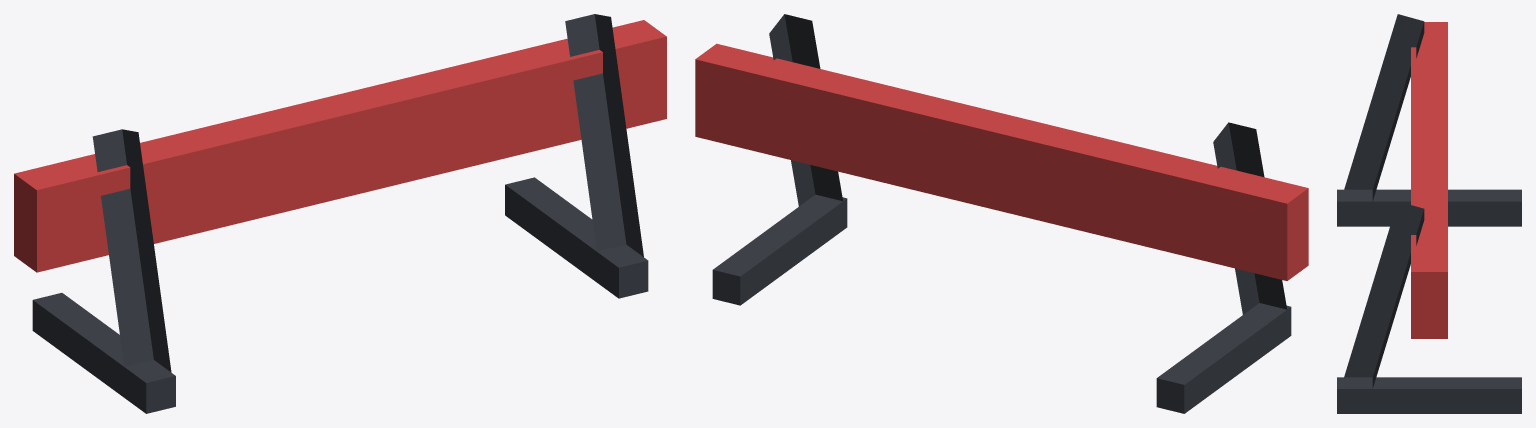
File: buffer-stop-proto.glb
3 renders of one model, left to right at view 1: azimuth 30°, elevation 25°; view 2: azimuth 150°, elevation 25°; view 3: azimuth 270°, elevation 25°, orthographic. The views are drawn at different scales.
Visible parts, largest first — view 1: buffer-stop-proto; view 2: buffer-stop-proto; view 3: buffer-stop-proto.
Boxes of the visible parts, x1,y1,x2,y2 form: buffer-stop-proto: [14, 14, 666, 413]; buffer-stop-proto: [695, 14, 1308, 413]; buffer-stop-proto: [1337, 14, 1521, 413].
Bounding box in the file's own units: 3.2 × 1.2 × 1.
